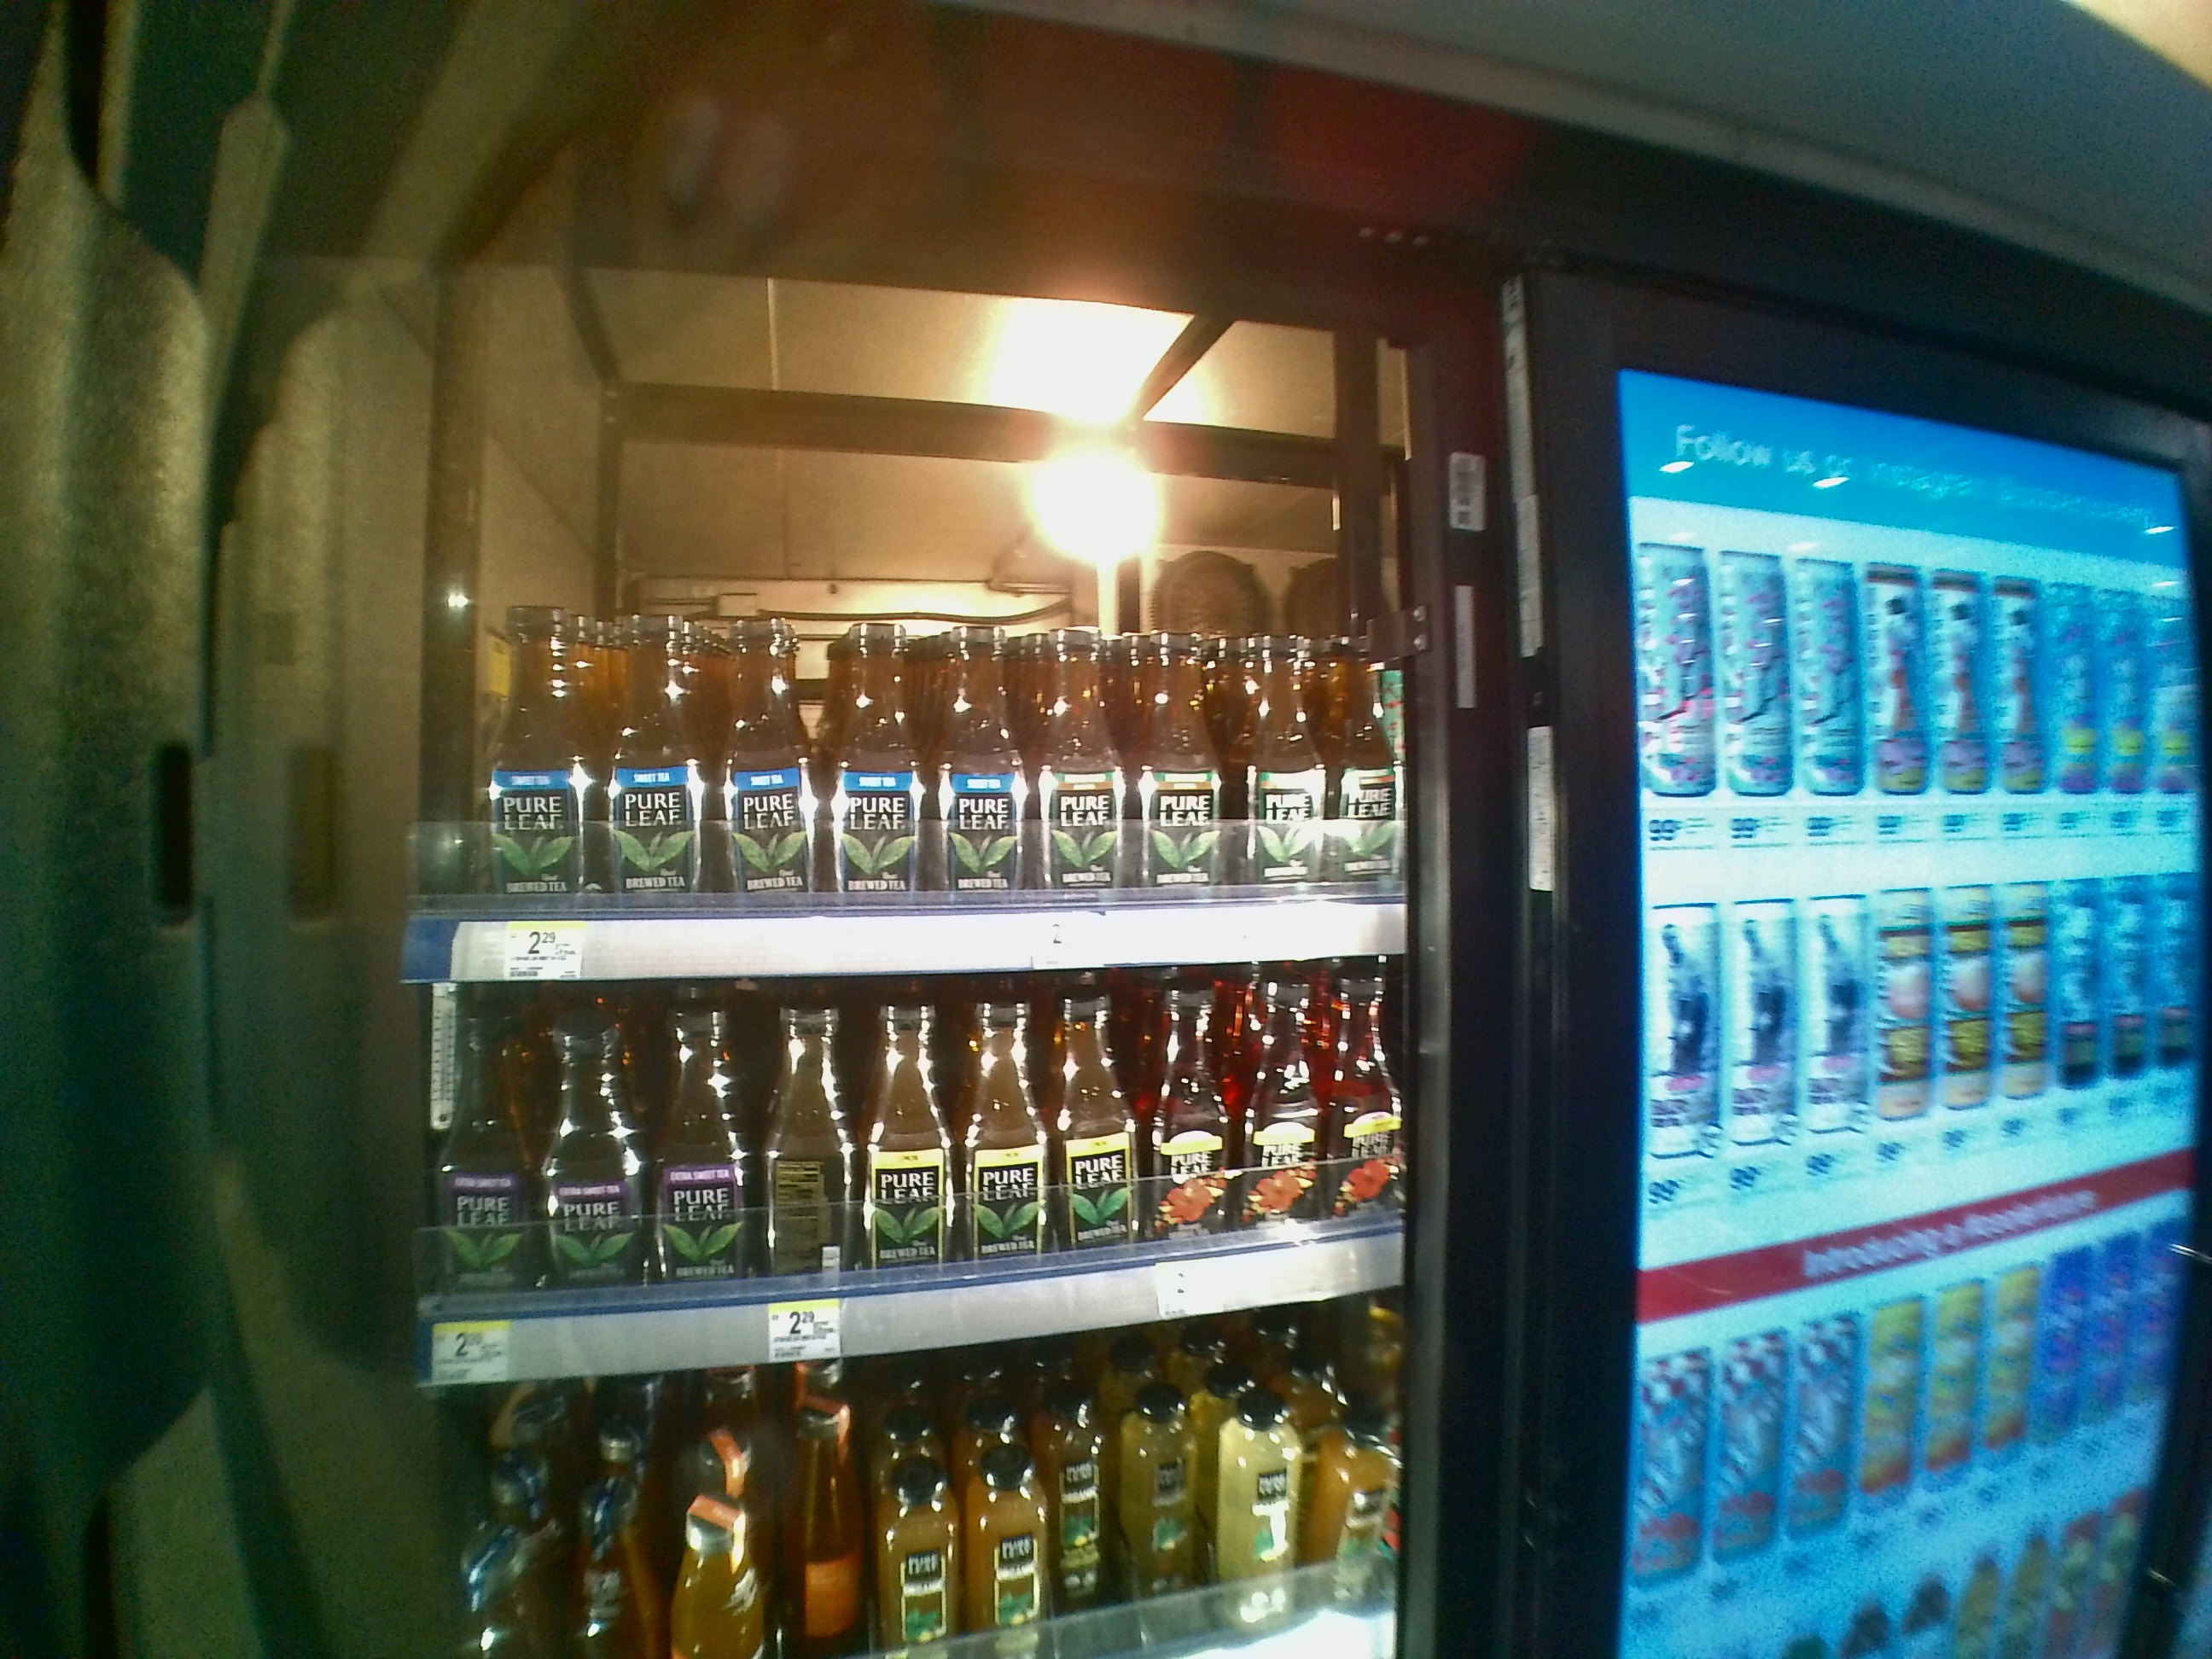shelf: (399, 404, 1416, 979), (411, 995, 1425, 1389)
